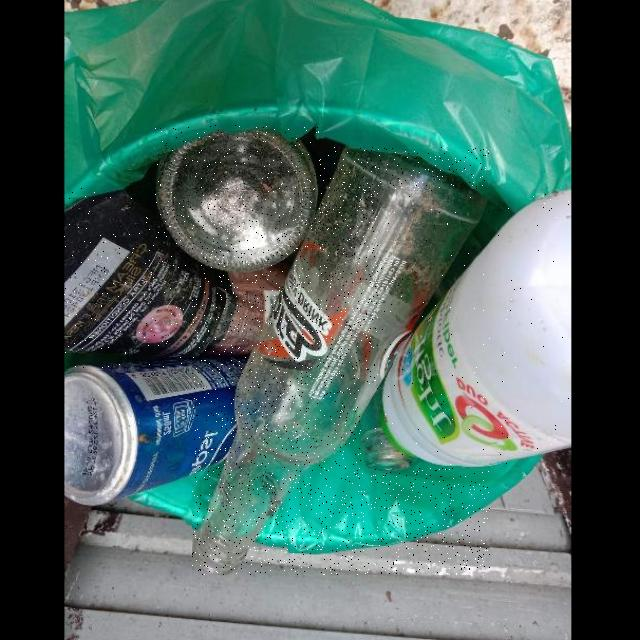glass: (193, 147, 490, 575), (156, 125, 319, 272), (362, 383, 411, 472)
metal: (65, 351, 250, 506)
plastic: (378, 189, 570, 467), (64, 188, 287, 369)
